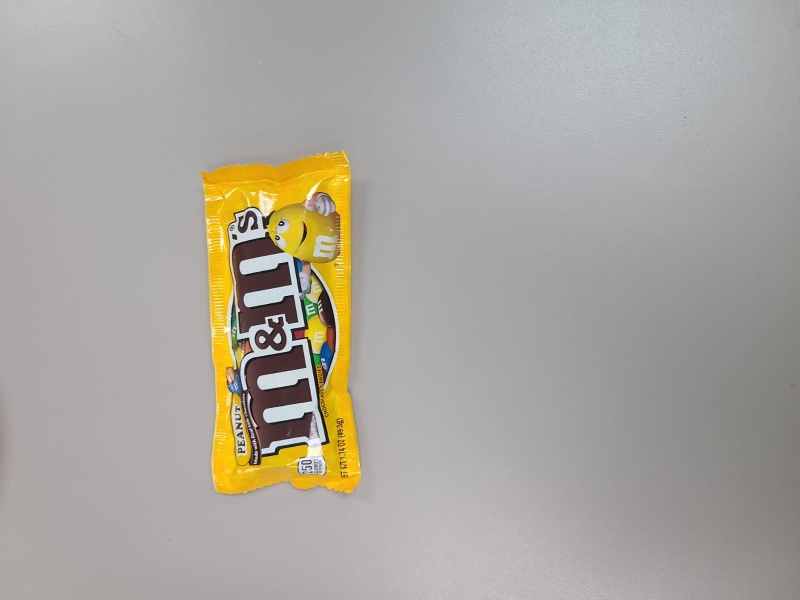m&m: (202, 149, 362, 498)
